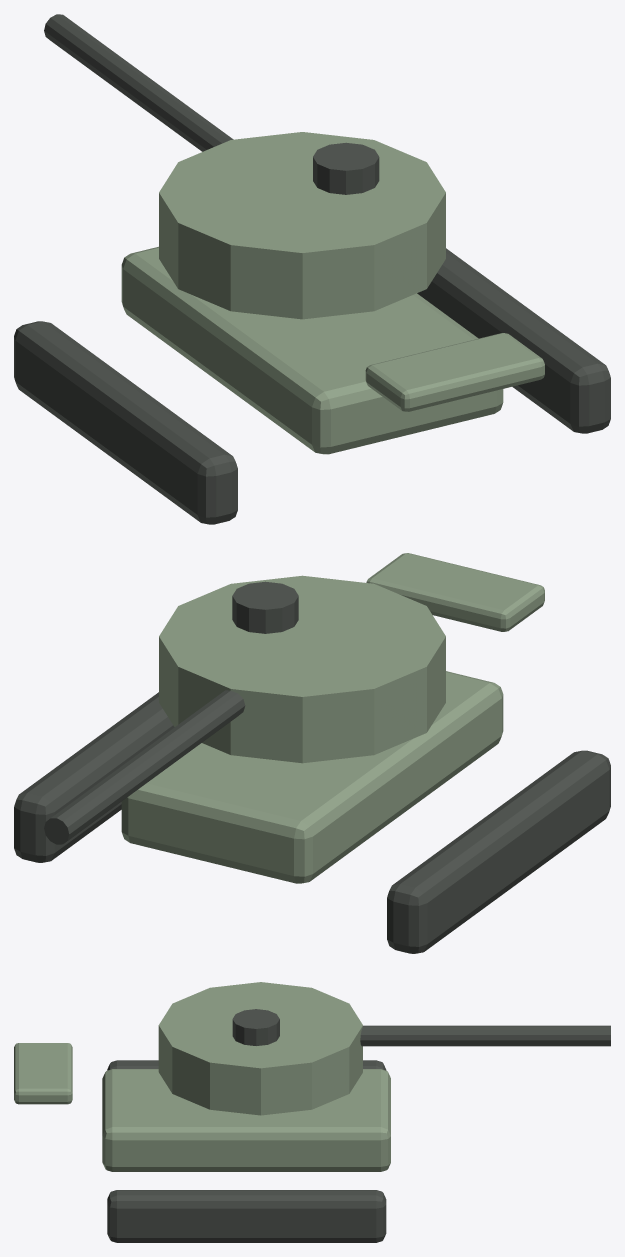
Rendered from nato_leopard2a7.glb.
The picture shows the model from 3 angles, top to bottom: view 1: azimuth 30°, elevation 25°; view 2: azimuth 150°, elevation 25°; view 3: azimuth 270°, elevation 25°; orthographic projection. The views are drawn at different scales.
Visible parts, largest first — view 1: turret, hull, left_track, right_track, rear_deck, gun, cupola; view 2: turret, hull, left_track, right_track, rear_deck, gun, cupola; view 3: hull, turret, right_track, gun, rear_deck, cupola, left_track.
Part boxes in pixels (bbox=[...]): turret: bbox=[159, 132, 445, 319]; hull: bbox=[121, 246, 503, 454]; left_track: bbox=[14, 321, 237, 524]; right_track: bbox=[417, 248, 610, 433]; rear_deck: bbox=[365, 333, 544, 411]; gun: bbox=[44, 14, 233, 151]; cupola: bbox=[313, 142, 379, 194]; turret: bbox=[159, 575, 445, 763]; hull: bbox=[121, 671, 503, 883]; left_track: bbox=[387, 750, 610, 953]; right_track: bbox=[14, 692, 174, 862]; rear_deck: bbox=[366, 553, 544, 631]; gun: bbox=[44, 690, 245, 844]; cupola: bbox=[232, 581, 298, 633]; hull: bbox=[102, 1069, 390, 1171]; turret: bbox=[158, 982, 362, 1115]; right_track: bbox=[107, 1190, 386, 1242]; gun: bbox=[360, 1025, 610, 1046]; rear_deck: bbox=[14, 1043, 72, 1104]; cupola: bbox=[232, 1009, 279, 1045]; left_track: bbox=[107, 1060, 386, 1070].
Bounding box in the file's own units: 4.12 × 2.28 × 7.26.
